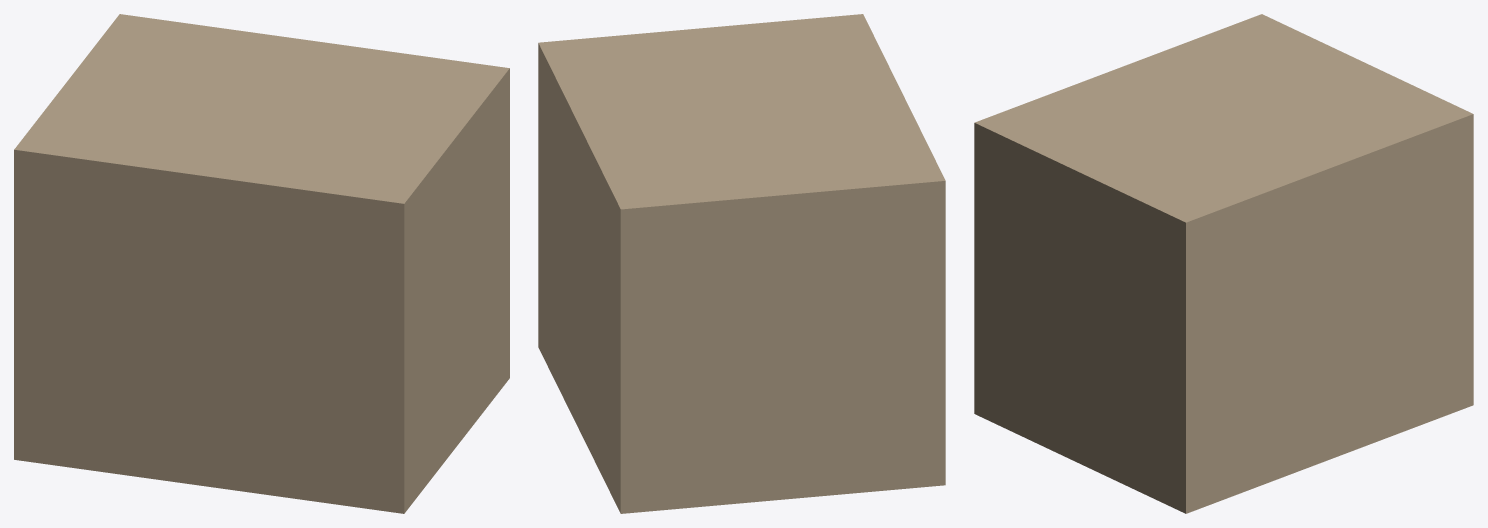
File: bld_55879436.dae
The picture shows the model from 3 angles, left to right: view 1: azimuth 30°, elevation 25°; view 2: azimuth 150°, elevation 25°; view 3: azimuth 270°, elevation 25°; orthographic projection. The views are drawn at different scales.
Parts seen in each view (by area): view 1: bld_55879436; view 2: bld_55879436; view 3: bld_55879436.
Part boxes in pixels (box(x1,y1,x2,y2)): bld_55879436: box(14, 14, 509, 513); bld_55879436: box(538, 14, 945, 513); bld_55879436: box(974, 14, 1473, 513).
Bounding box in the file's own units: 12.29 × 12.43 × 8.
